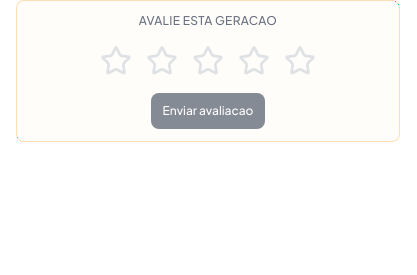
Test case: FeedbackStarsCard › shows "Comentario obrigatorio" for nota <= 3
Click the radio button named "2 estrelas": x=162, y=61 [142, 41, 182, 81]
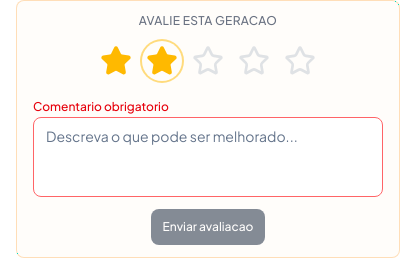
Now the text "Comentario obrigatorio" is shown, box [33, 99, 169, 114]
